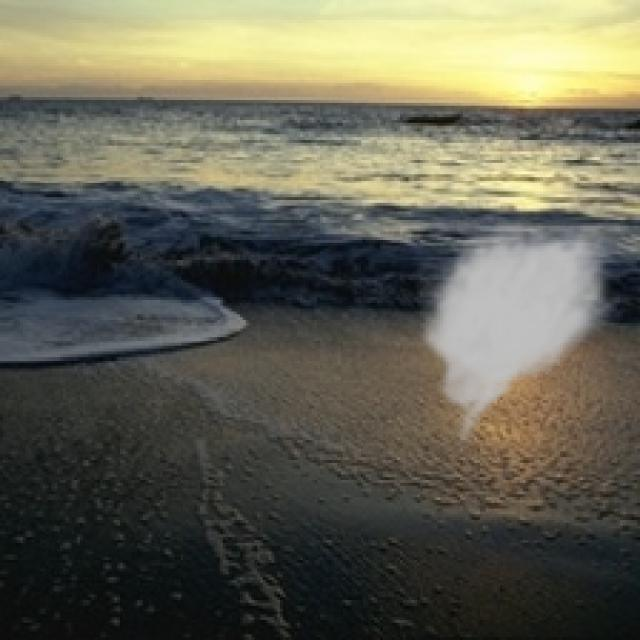smoke: (414, 217, 623, 454)
